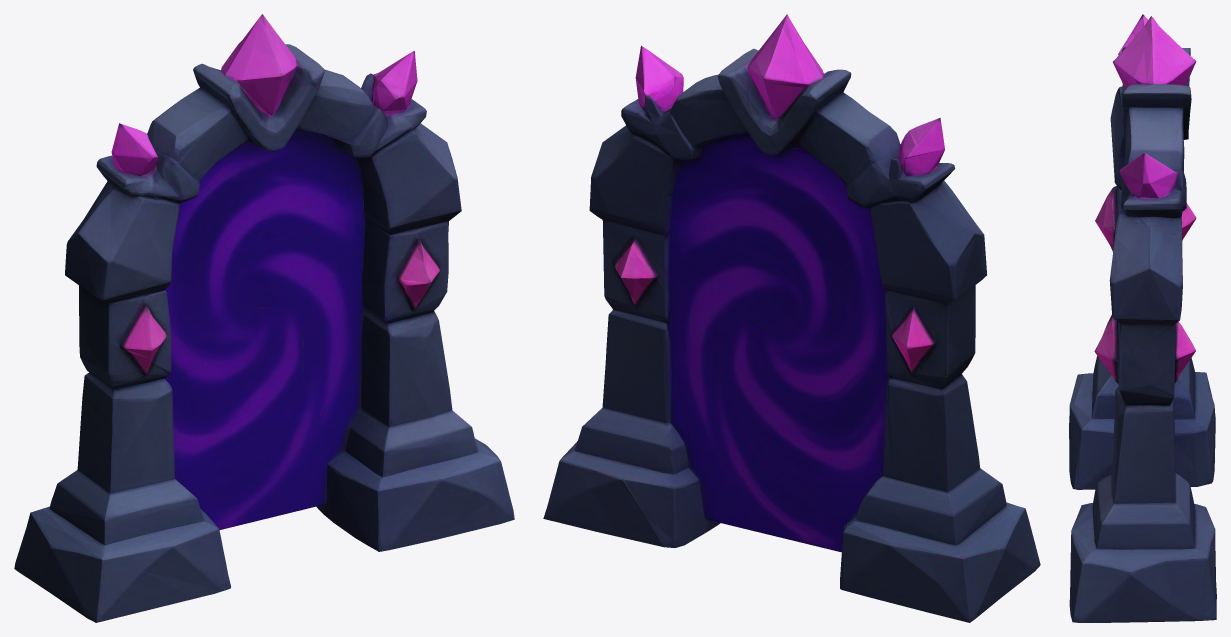
The model's file is abimes_portail.glb.
The picture shows the model from 3 angles, left to right: view 1: azimuth 30°, elevation 25°; view 2: azimuth 150°, elevation 25°; view 3: azimuth 270°, elevation 25°; orthographic projection. The views are drawn at different scales.
Visible parts, largest first — view 1: geometry_0; view 2: geometry_0; view 3: geometry_0.
Boxes of the visible parts, left/top/right/bottom form: geometry_0: left=14, top=14, right=514, bottom=622; geometry_0: left=543, top=14, right=1040, bottom=622; geometry_0: left=1069, top=14, right=1216, bottom=622.
Bounding box in the file's own units: 0.8533 × 1 × 0.2643.
1 material, 1 textured.
